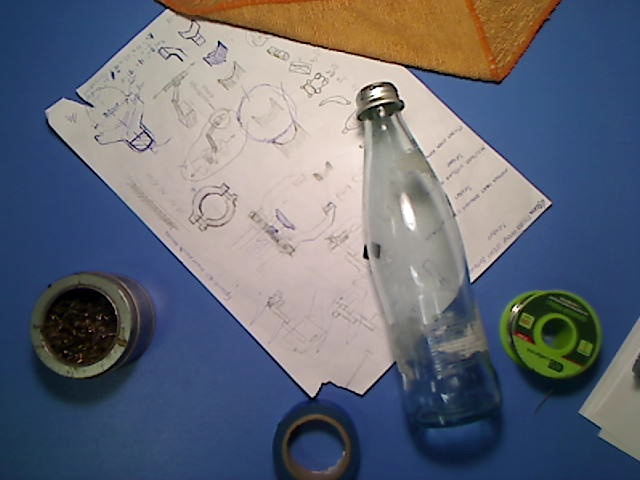bottle: (354, 80, 505, 429)
